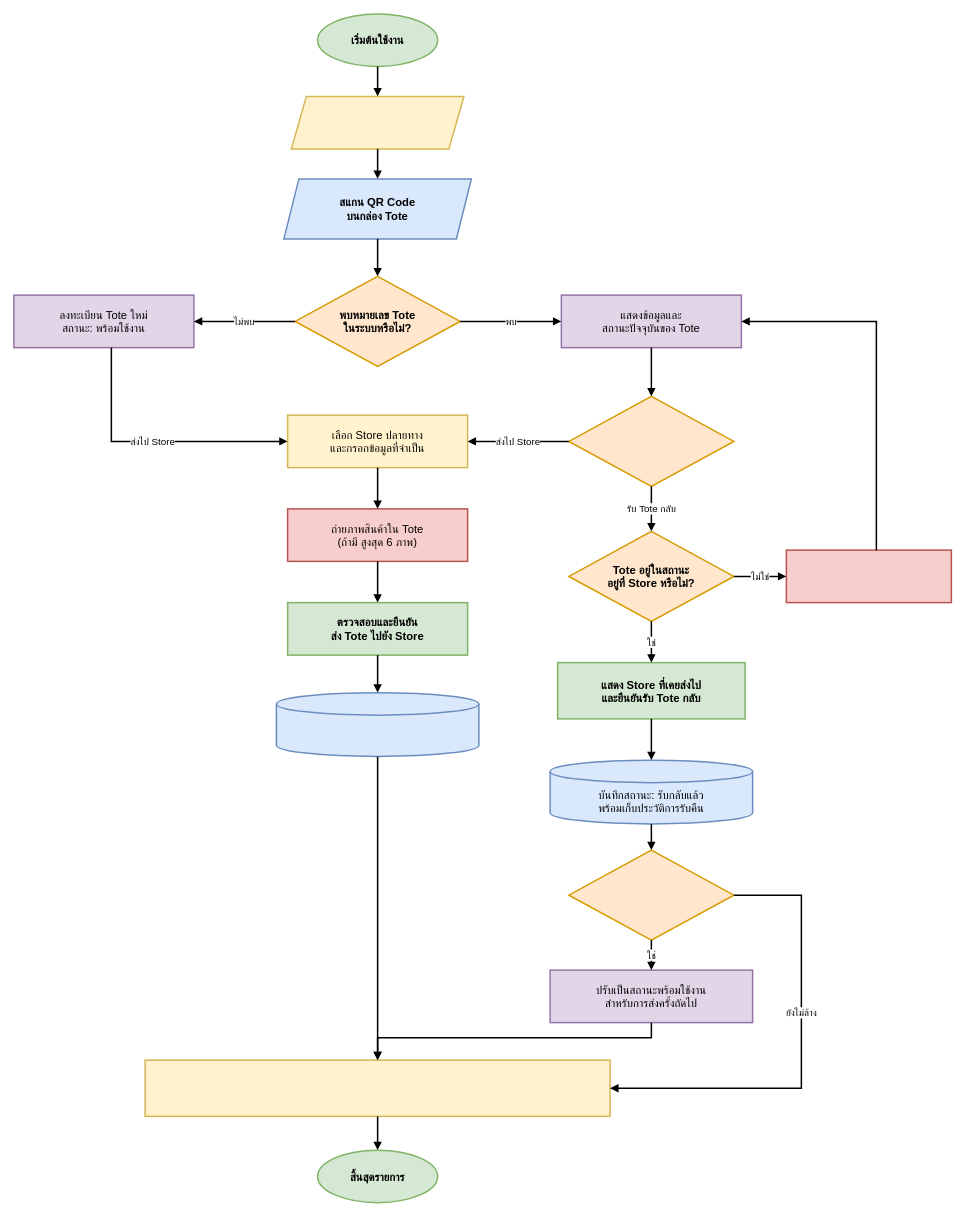
Image size: 965x1216. Some labels were removed from this diagram. Here are the shapes that lost their labels. From the top down, the centre of each, then its label:
At point 377,122: "ระบุชื่อผู้ใช้งาน".
At point 651,441: "ต้องการดำเนินการใด?".
At point 868,576: "แจ้งสถานะปัจจุบัน และเลือกทำรายการที่ถูกต้อง".
At point 377,724: "บันทึกสถานะ: อยู่ที่ Store พร้อมเก็บประวัติการส่ง".
At point 651,894: "ต้องการล้างสถานะ เพื่อเตรียมใช้ครั้งถัดไปหรือไม่?".
At point 377,1088: "ระบบบันทึกข้อมูลและล้างหน้าจอ พร้อมสแกน Tote ใบถัดไป".
